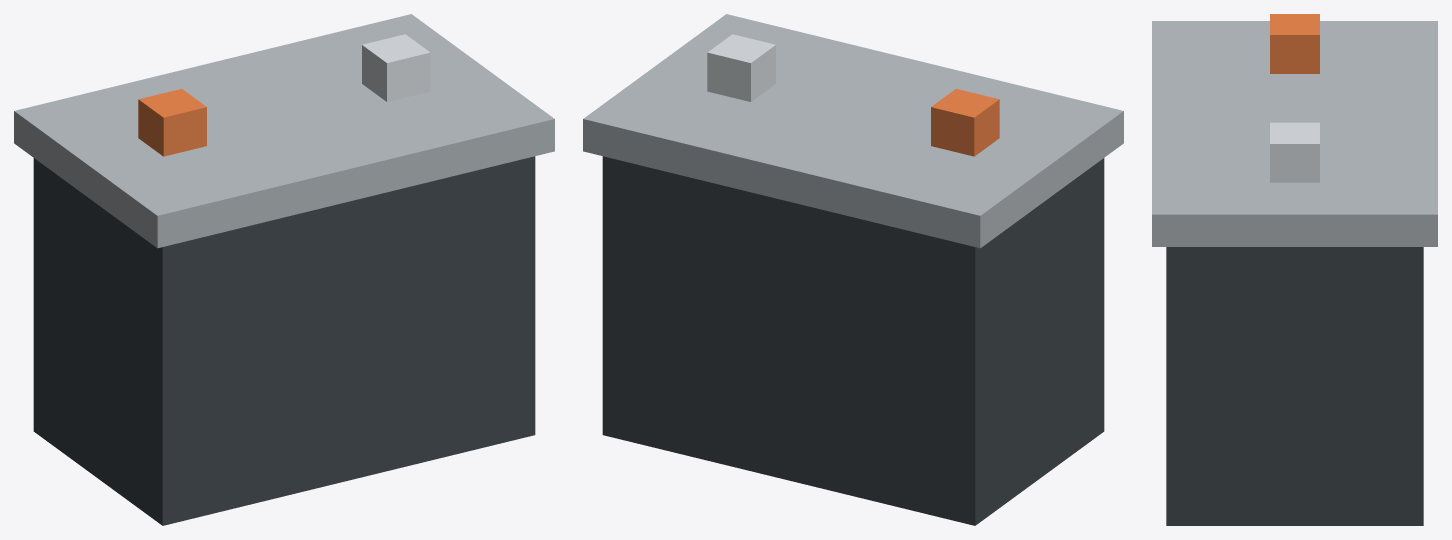
Rendered from powerboat-racing-and-launch-ramp-marine-battery-c0e419f5__22301.glb.
The picture shows the model from 3 angles, left to right: view 1: azimuth 30°, elevation 25°; view 2: azimuth 150°, elevation 25°; view 3: azimuth 270°, elevation 25°; orthographic projection.
Parts seen in each view (by area): view 1: marine-battery; view 2: marine-battery; view 3: marine-battery.
Boxes of the visible parts, bbox=[...] form: marine-battery: bbox=[14, 14, 554, 525]; marine-battery: bbox=[583, 14, 1123, 525]; marine-battery: bbox=[1152, 14, 1437, 525].
Bounding box in the file's own units: 0.32 × 0.275 × 0.2.
